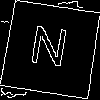N: (25, 25, 71, 77)
